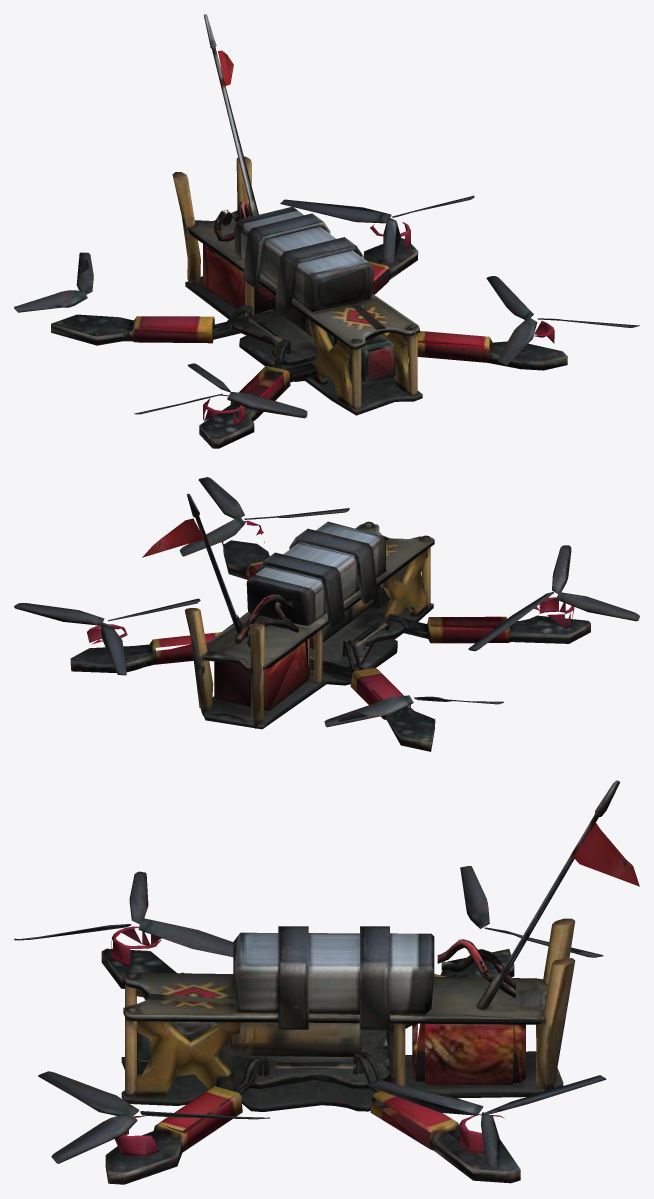
The model's file is fpv_kamikaze.glb.
3 renders of one model, top to bottom at view 1: azimuth 30°, elevation 25°; view 2: azimuth 150°, elevation 25°; view 3: azimuth 270°, elevation 25°, orthographic. The views are drawn at different scales.
Parts seen in each view (by area): view 1: Body, Trim; view 2: Body, Trim; view 3: Body, Trim.
Part boxes in pixels (bbox=[...]): Body: bbox=[14, 14, 639, 448]; Trim: bbox=[134, 50, 554, 425]; Body: bbox=[14, 477, 639, 751]; Trim: bbox=[87, 518, 574, 710]; Body: bbox=[14, 780, 619, 1184]; Trim: bbox=[111, 823, 639, 1156].
Bounding box in the file's own units: 0.7 × 0.345 × 0.6289.
2 materials, 2 textured.
